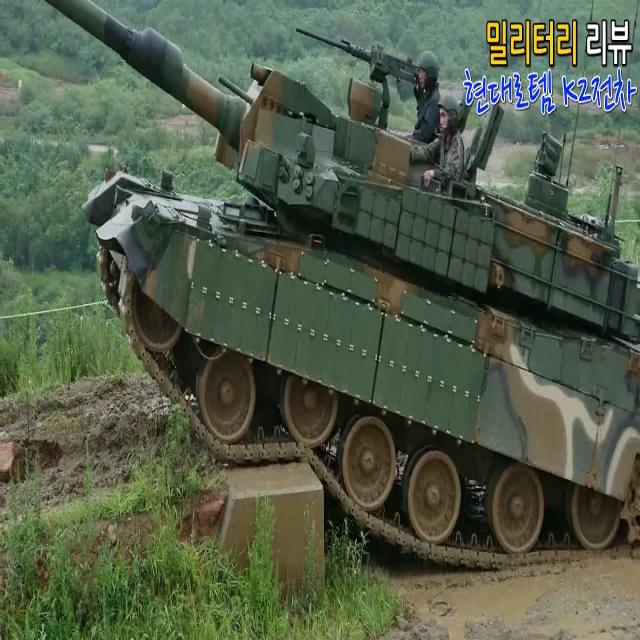korea tank: (41, 1, 640, 568)
